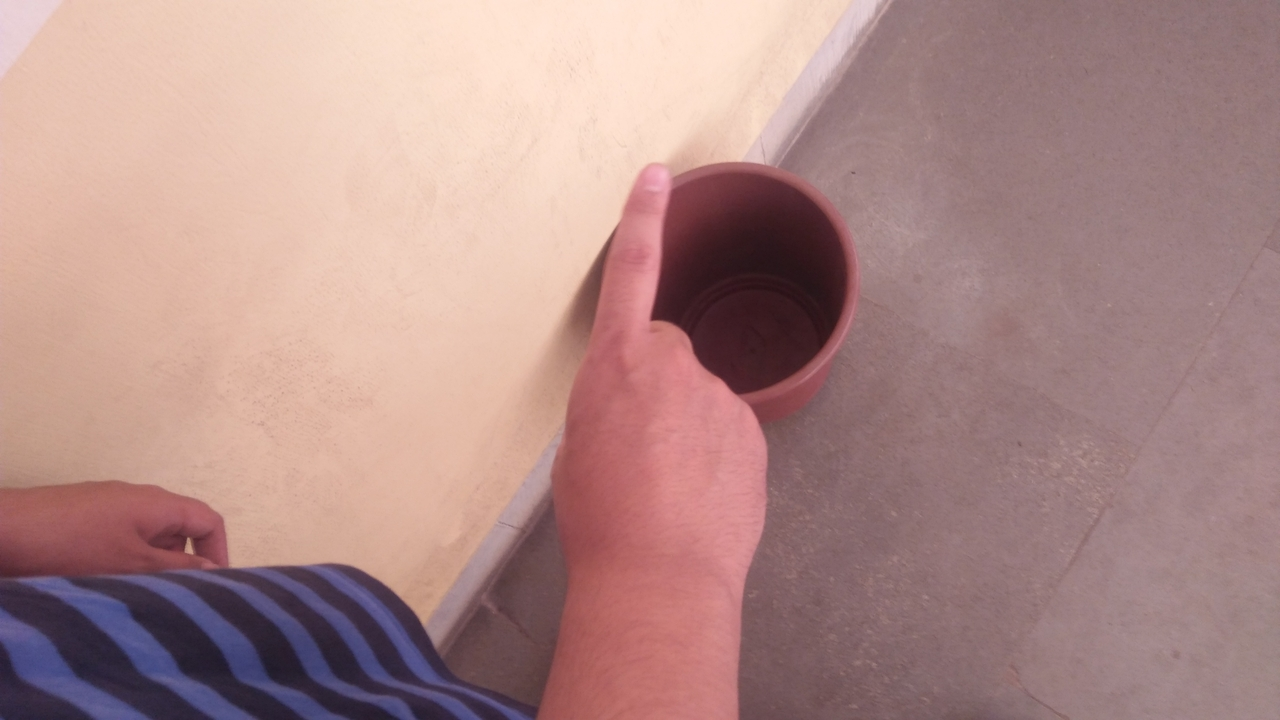fingertip: (628, 154, 682, 200)
